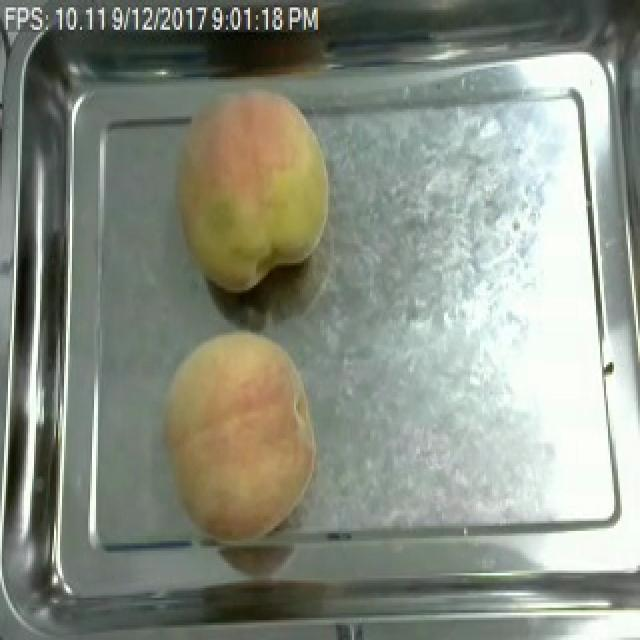Fruit: (152, 322, 326, 544), (168, 82, 340, 300)
